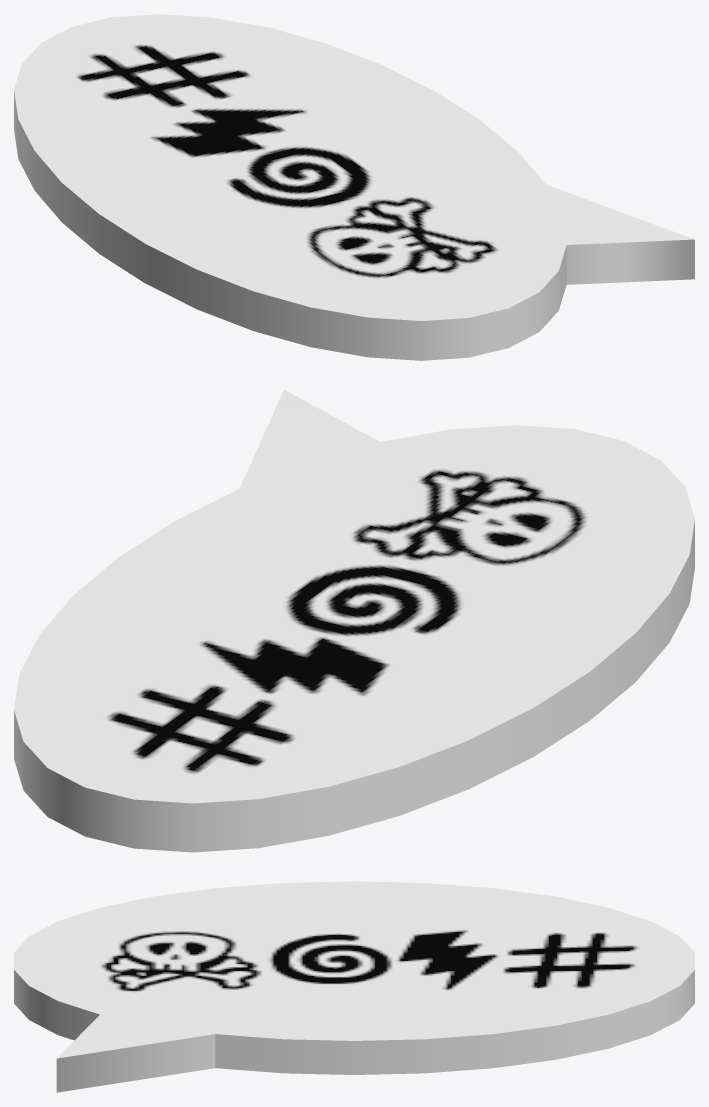
Rendered from Speech Bubble.obj.
The picture shows the model from 3 angles, top to bottom: view 1: azimuth 30°, elevation 25°; view 2: azimuth 150°, elevation 25°; view 3: azimuth 270°, elevation 25°; orthographic projection. The views are drawn at different scales.
Visible parts, largest first — view 1: pCylinder1; view 2: pCylinder1; view 3: pCylinder1.
Part boxes in pixels (x1,y1,x2,y2): pCylinder1: [14, 14, 694, 360]; pCylinder1: [14, 389, 694, 852]; pCylinder1: [14, 881, 694, 1092].
Bounding box in the file's own units: 9.17 × 0.8482 × 14.96.
